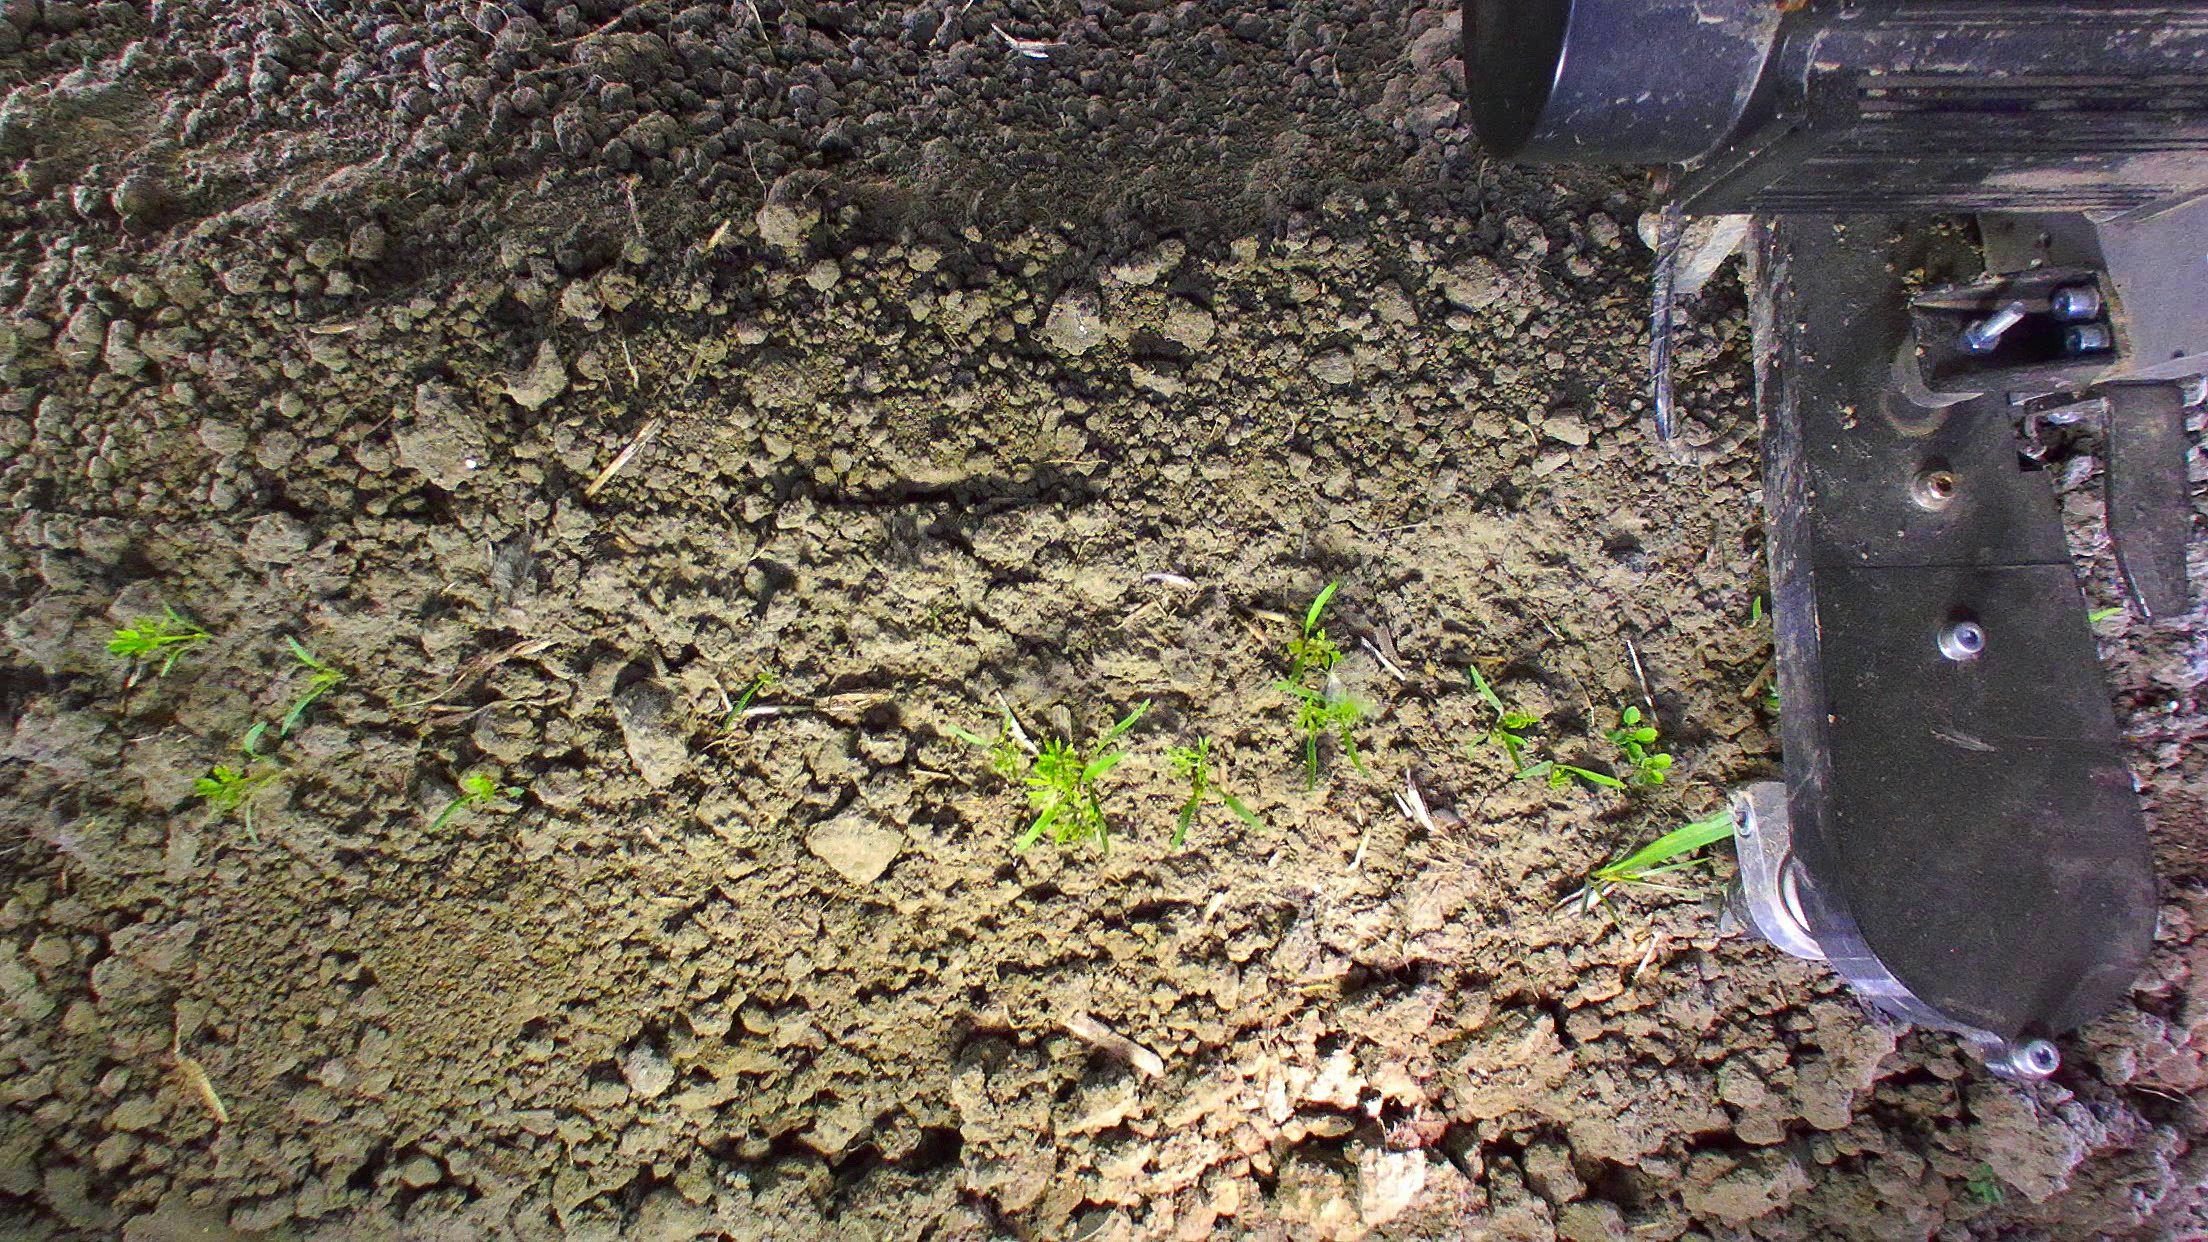Crop: (952, 695, 1154, 852), (1462, 663, 1676, 798), (1269, 576, 1369, 792), (235, 632, 344, 769), (1163, 734, 1213, 851), (429, 770, 499, 833), (190, 763, 271, 813), (720, 670, 775, 729)
Weed: (1586, 817, 1736, 886), (1964, 1160, 2005, 1206)
